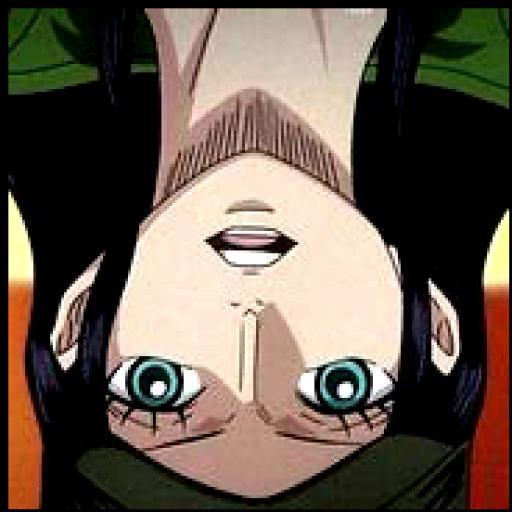NicoRobin: (8, 8, 501, 506)
